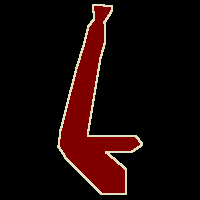tie: (58, 4, 142, 194)
